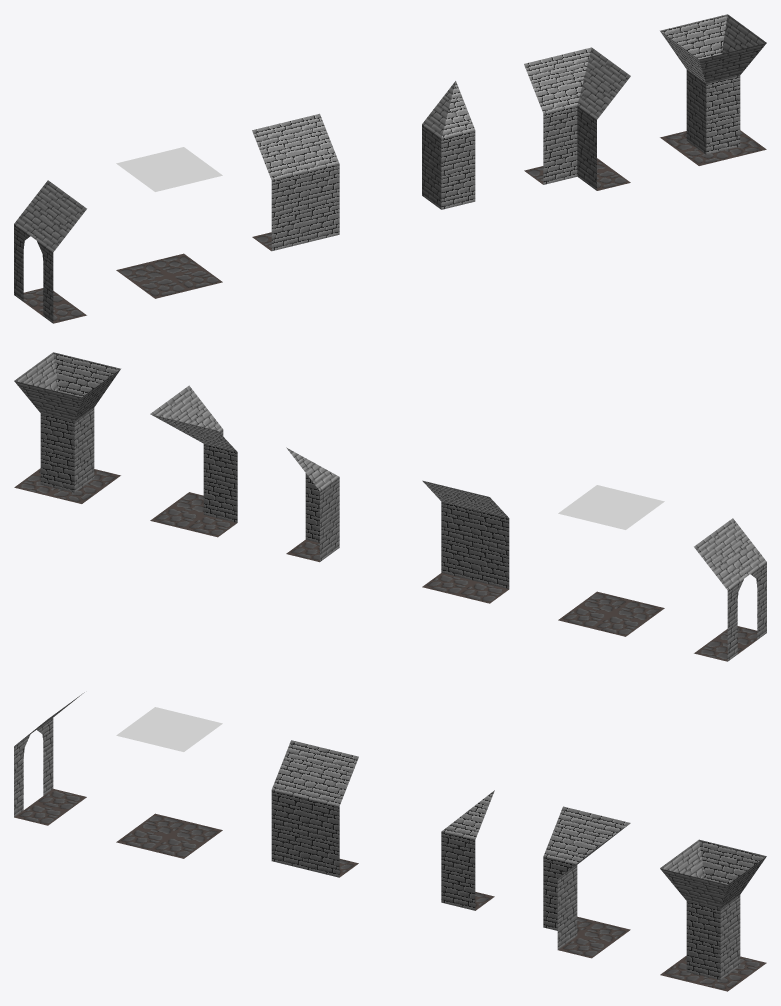
The model's file is UmbralCryptTileset.glb.
3 renders of one model, top to bottom at view 1: azimuth 30°, elevation 25°; view 2: azimuth 150°, elevation 25°; view 3: azimuth 330°, elevation 25°, orthographic.
Parts seen in each view (by area): view 1: Pillar-col, CornerOut-col, Wall-col, CornerIn-col, Floor-col, Doorway-col; view 2: Pillar-col, Wall-col, CornerOut-col, Floor-col, Doorway-col, CornerIn-col; view 3: Pillar-col, Wall-col, CornerOut-col, Floor-col, CornerIn-col, Doorway-col.
Part boxes in pixels (x1,y1,x2,y2): Pillar-col: (660,14,766,165); CornerOut-col: (524,47,630,190); Wall-col: (252,113,339,251); CornerIn-col: (422,81,475,209); Floor-col: (116,147,222,298); Doorway-col: (14,180,86,323); Pillar-col: (14,352,120,503); Wall-col: (422,480,509,603); CornerOut-col: (150,385,237,537); Floor-col: (558,485,664,636); Doorway-col: (694,518,766,661); CornerIn-col: (286,447,339,562); Pillar-col: (660,839,766,991); Wall-col: (271,740,358,877); CornerOut-col: (543,806,630,958); Floor-col: (116,707,222,858); CornerIn-col: (441,790,494,910); Doorway-col: (14,692,86,825).
Bounding box in the file's own units: 21 × 3 × 2.
Materials: 3 (2 with a texture image).
